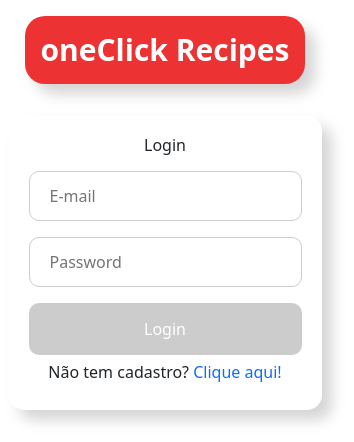
Tela de Login › Verifica se o botão de login está habilitado quando o email e a senha são válidos.
Type "joao-antonio@trybe.com.br" into the field with test id "email-input" at (165, 196), box [28,171,302,221]
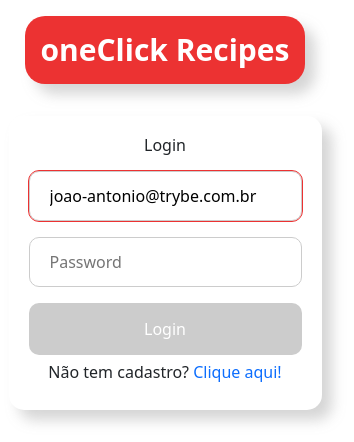
Type "1234#ci" into the password field with test id "password-input" at (165, 262), box [28,237,302,287]
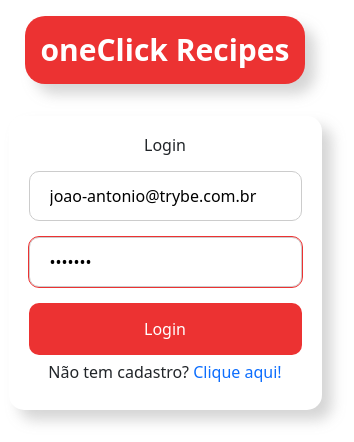
Check: the button with test id "login-submit-btn" is enabled, box [28,303,302,355]
